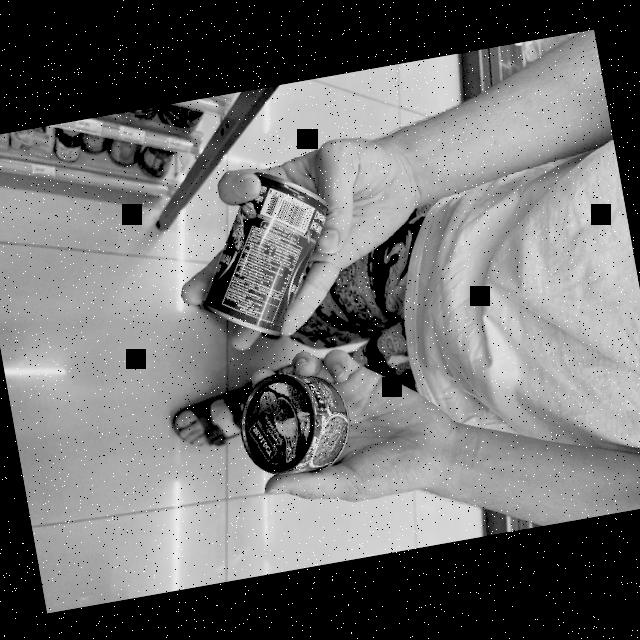can: (182, 162, 355, 352), (230, 359, 362, 489)
